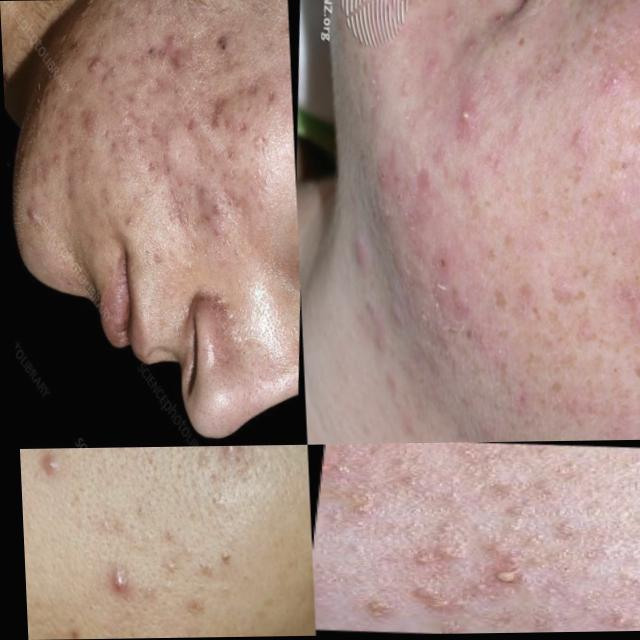7: (220, 269, 248, 301)
8: (396, 544, 459, 573), (32, 448, 64, 496), (575, 614, 636, 631)
9: (83, 559, 133, 617), (437, 99, 477, 145), (473, 563, 525, 597), (194, 445, 252, 469), (42, 0, 75, 15)
blackheads: (185, 83, 232, 137), (331, 594, 410, 625), (73, 35, 117, 86), (231, 70, 264, 108), (19, 189, 50, 226), (76, 111, 105, 135)
dark spot: (358, 148, 400, 198), (343, 219, 371, 269), (559, 125, 587, 151), (205, 199, 223, 226)
